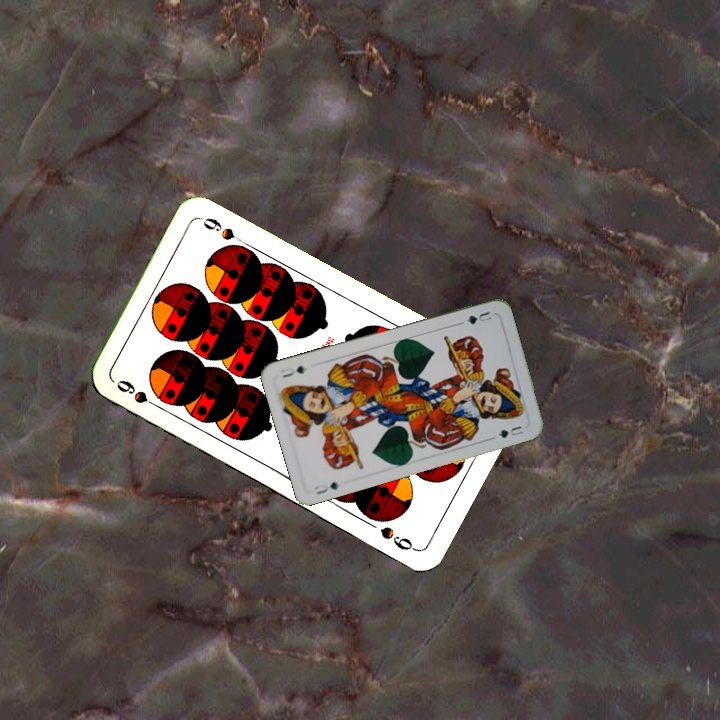GU: (462, 307, 495, 327), (310, 478, 341, 497)
S9: (112, 375, 165, 412)
